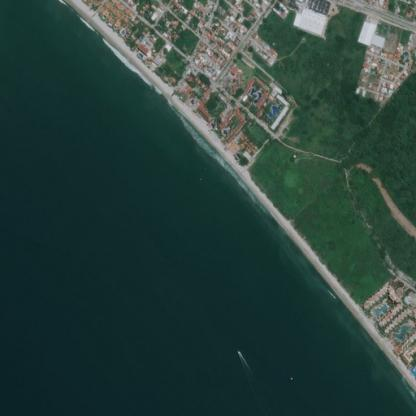ship: (232, 342, 248, 362)
